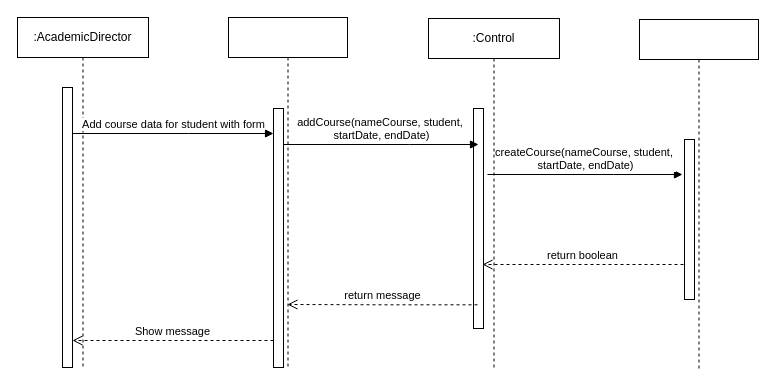
Image size: 776x386. Some labels were removed from this diagram. Each missing label, with the box of its shape:
:ApplicationIHM: (228, 16, 348, 368)
:Database: (638, 18, 758, 368)
